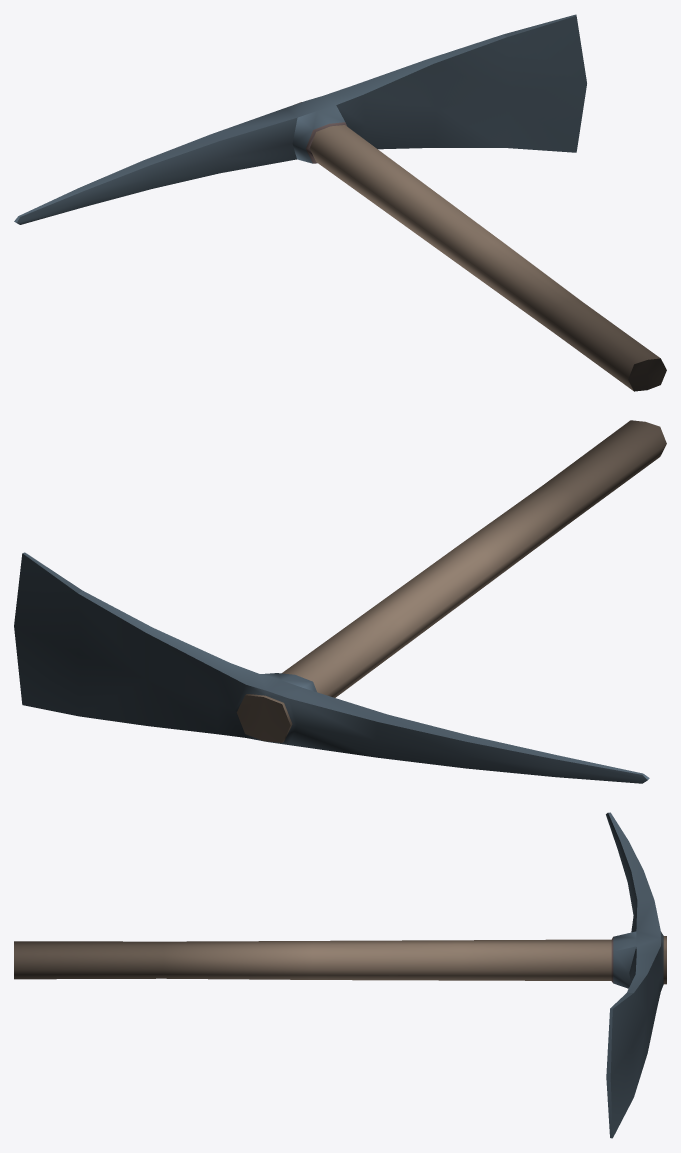
3 views of the same model, one above another, from view 1: azimuth 30°, elevation 25°; view 2: azimuth 150°, elevation 25°; view 3: azimuth 270°, elevation 25° (orthographic). The views are drawn at different scales.
Parts seen in each view (by area): view 1: Pickaxe; view 2: Pickaxe; view 3: Pickaxe.
Boxes of the visible parts, x1,y1,x2,y2 form: Pickaxe: (14,14,666,391); Pickaxe: (14,420,666,783); Pickaxe: (14,812,666,1138).
Size of the model in its own units: 0.4777 by 0.1094 by 0.5.
